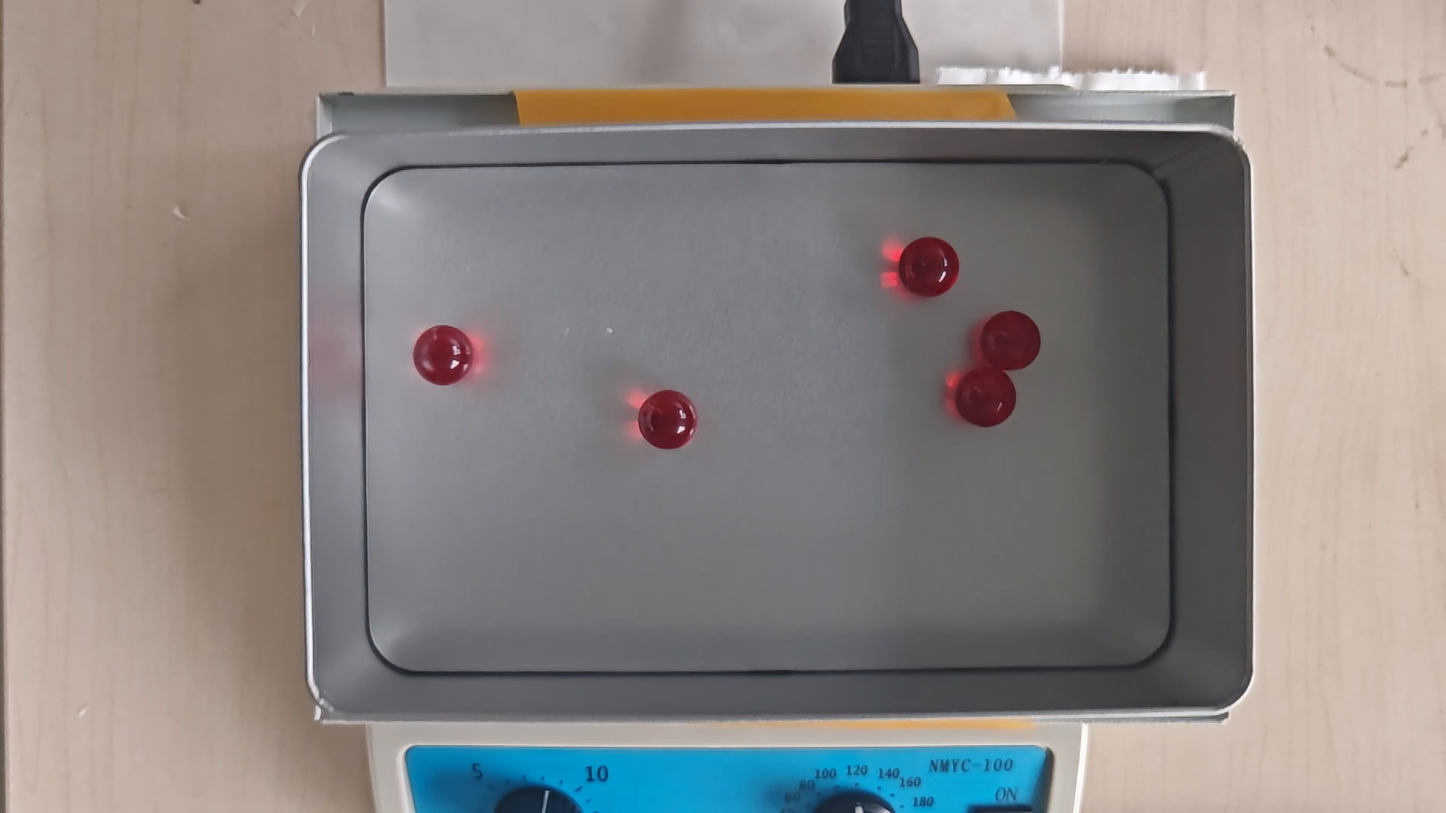ball: (978, 310, 1040, 371), (958, 367, 1017, 431), (898, 237, 959, 297), (413, 324, 472, 385), (640, 390, 700, 449)
container: (364, 161, 1171, 673)
